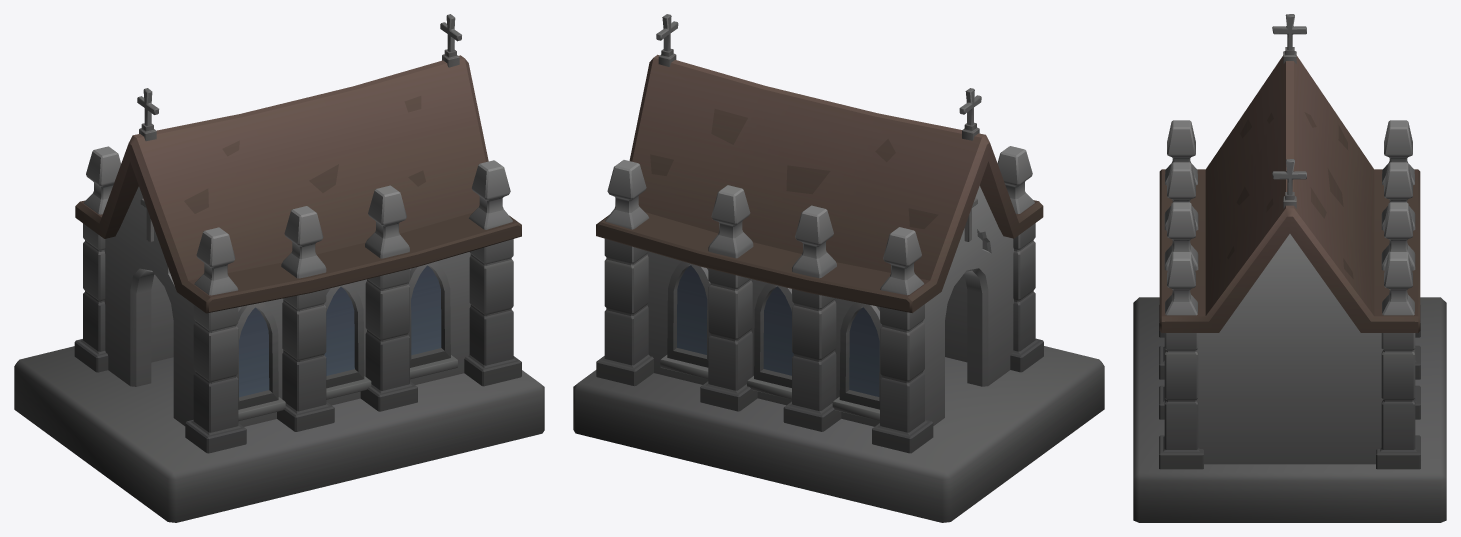
File: Catedra.obj
3 views of the same model, side by side, from view 1: azimuth 30°, elevation 25°; view 2: azimuth 150°, elevation 25°; view 3: azimuth 270°, elevation 25° (orthographic). The views are drawn at different scales.
Parts seen in each view (by area): view 1: Catedra; view 2: Catedra; view 3: Catedra.
Boxes of the visible parts, x1,y1,x2,y2 form: Catedra: [14, 14, 544, 522]; Catedra: [573, 14, 1104, 522]; Catedra: [1133, 14, 1446, 522].
Bounding box in the file's own units: 4.29 × 3.94 × 3.15.
